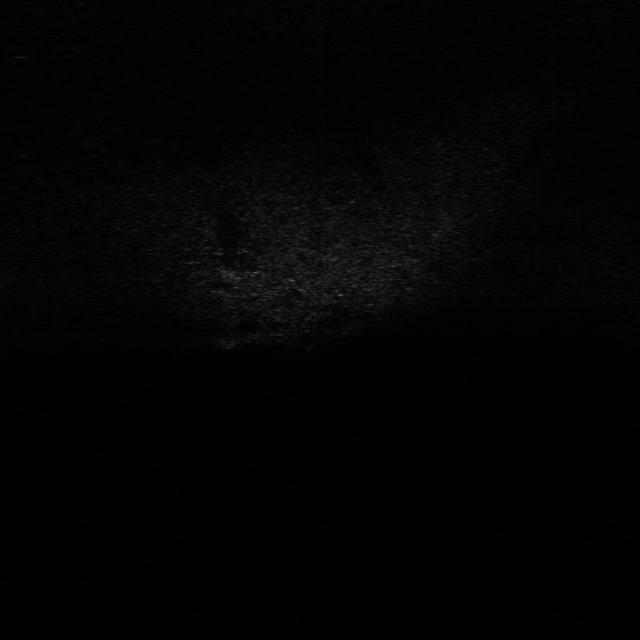cube: (212, 332, 242, 350)
